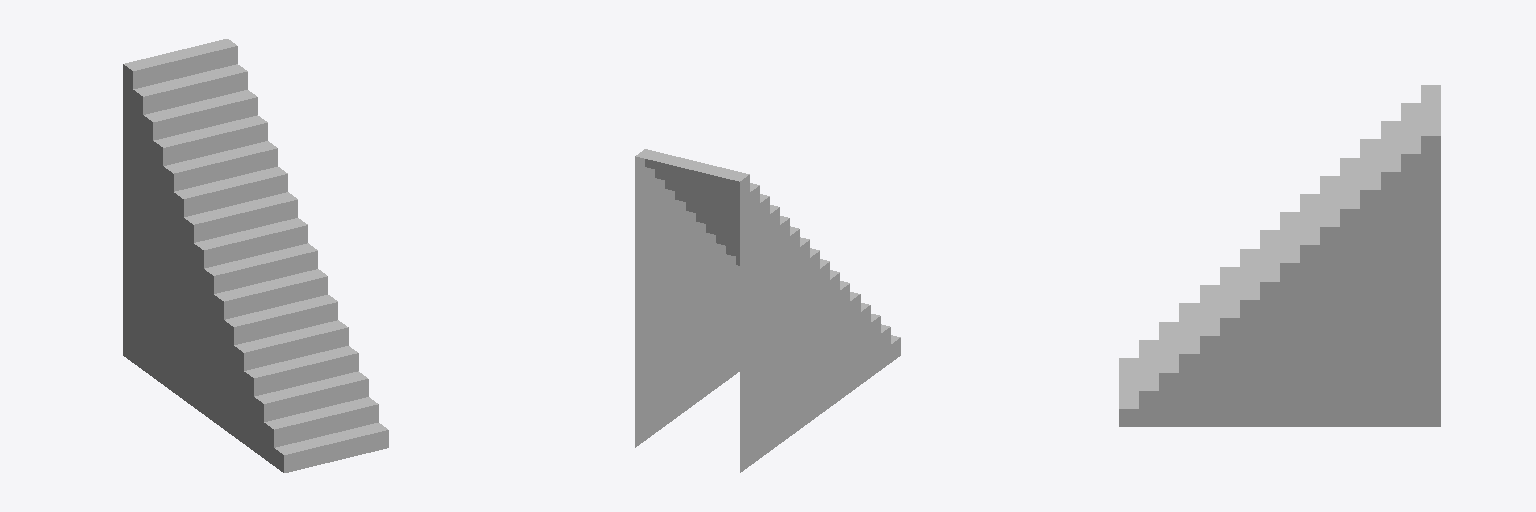
Rendered from stair2.obj.
3 views of the same model, side by side, from view 1: azimuth 30°, elevation 25°; view 2: azimuth 150°, elevation 25°; view 3: azimuth 270°, elevation 25° (orthographic).
Parts seen in each view (by area): view 1: model; view 2: model; view 3: model.
Part boxes in pixels (bbox=[...]): model: bbox=[123, 39, 388, 472]; model: bbox=[635, 149, 900, 472]; model: bbox=[1119, 85, 1440, 426].
Size of the model in its own units: 0.375 by 1 by 1.